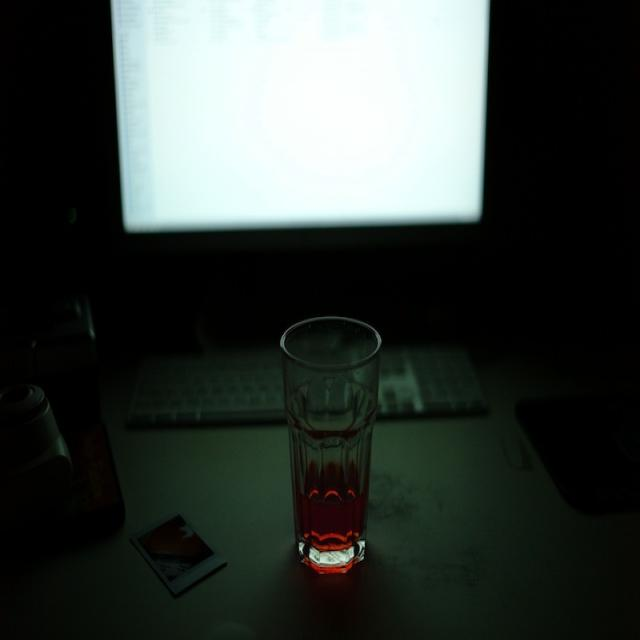Cup: (262, 307, 387, 598)
Table: (0, 258, 640, 640)
